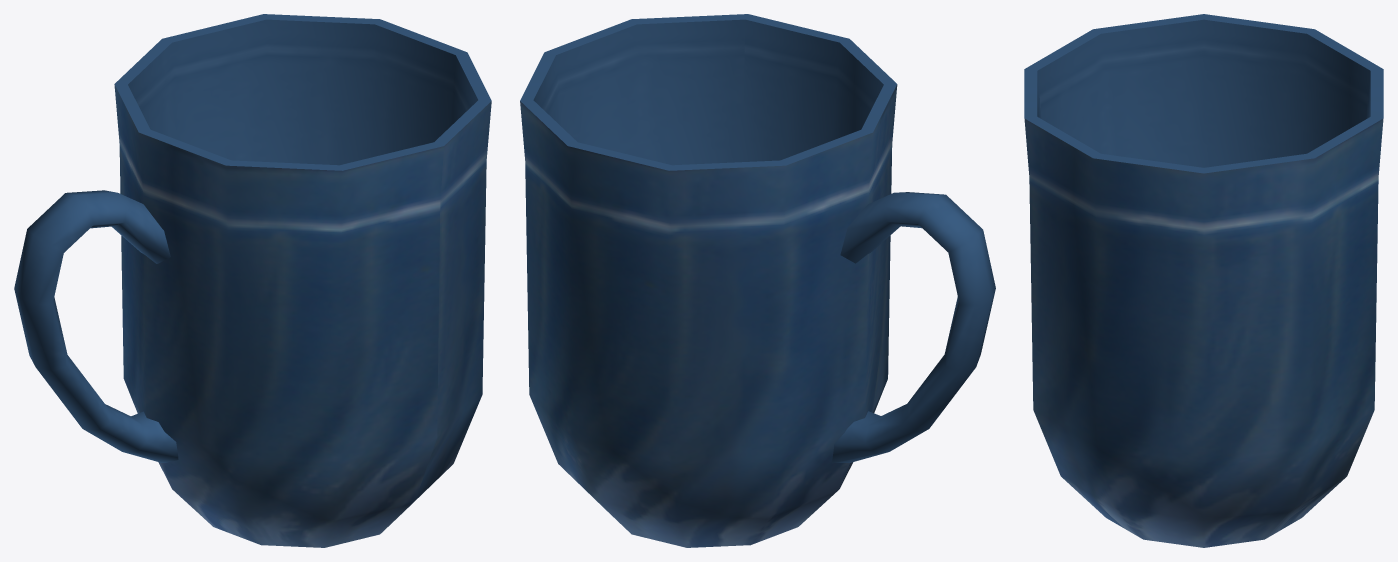
Rendered from cup-2.FBX.
3 views of the same model, side by side, from view 1: azimuth 30°, elevation 25°; view 2: azimuth 150°, elevation 25°; view 3: azimuth 270°, elevation 25° (orthographic).
Parts seen in each view (by area): view 1: cup-2_LOD0; view 2: cup-2_LOD0; view 3: cup-2_LOD0.
Part boxes in pixels (box(x1,y1,x2,y2)): cup-2_LOD0: box(14, 14, 491, 547); cup-2_LOD0: box(520, 14, 995, 547); cup-2_LOD0: box(1024, 14, 1383, 547).
Size of what is drawn, in the model's own units: 5.98 by 5.27 by 4.18.
